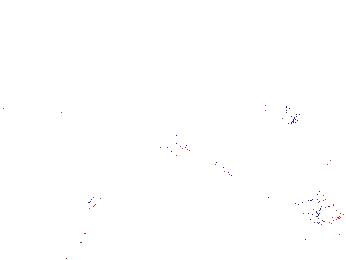X-ray fish: (263, 94, 301, 125)
glassfish: (146, 130, 238, 193), (65, 172, 127, 252)
redtail glassfish: (202, 22, 259, 53)
